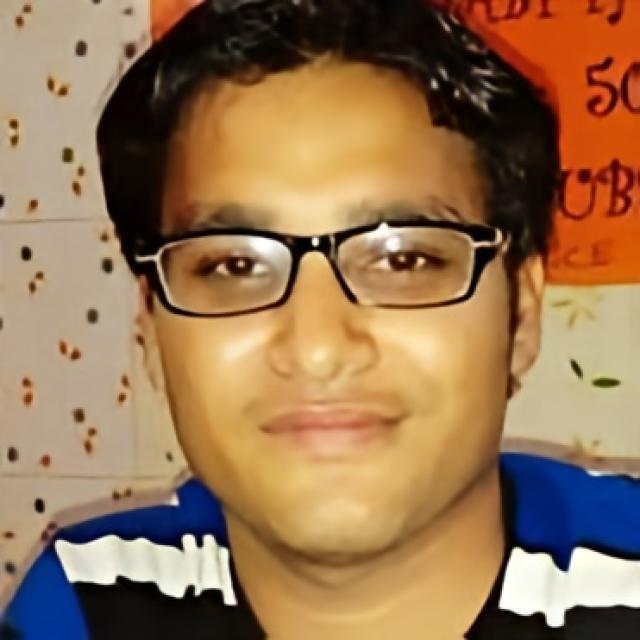content: (155, 67, 508, 558)
